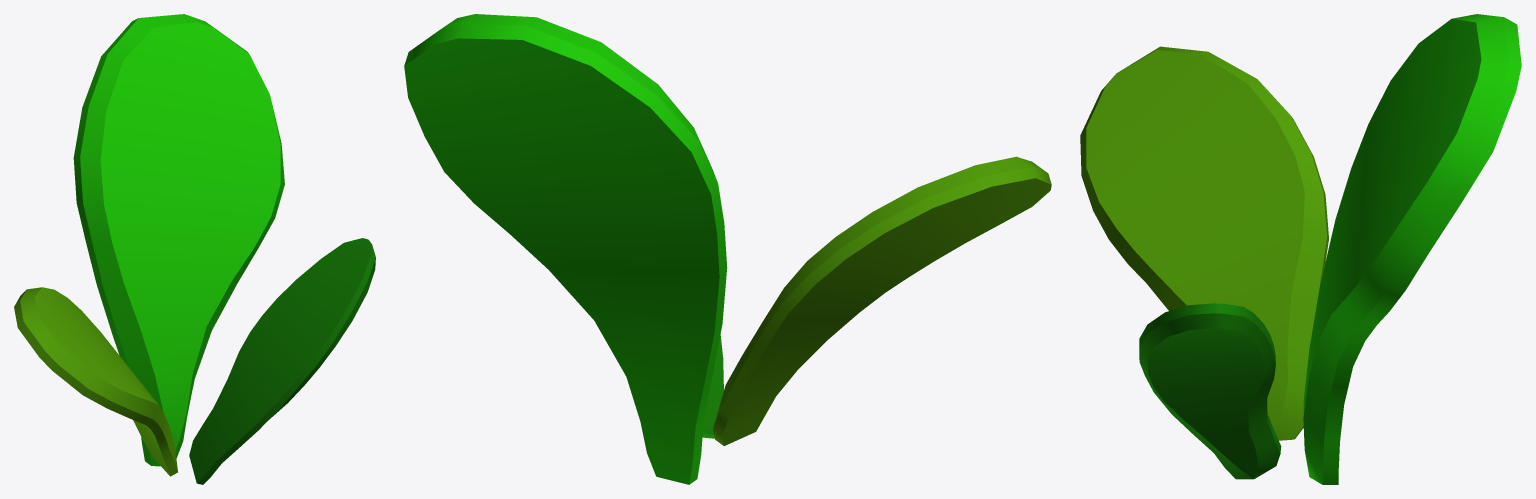
The model's file is NeutralHerb4.fbx.
The picture shows the model from 3 angles, left to right: view 1: azimuth 30°, elevation 25°; view 2: azimuth 150°, elevation 25°; view 3: azimuth 270°, elevation 25°; orthographic projection. The views are drawn at different scales.
Parts seen in each view (by area): view 1: NeutralHerb4_LOD0; view 2: NeutralHerb4_LOD0; view 3: NeutralHerb4_LOD0.
Part boxes in pixels (x1,y1,x2,y2): NeutralHerb4_LOD0: [14, 14, 375, 484]; NeutralHerb4_LOD0: [404, 14, 1051, 484]; NeutralHerb4_LOD0: [1080, 14, 1521, 484].
Size of what is drawn, in the model's own units: 47.77 by 46.63 by 38.16.
